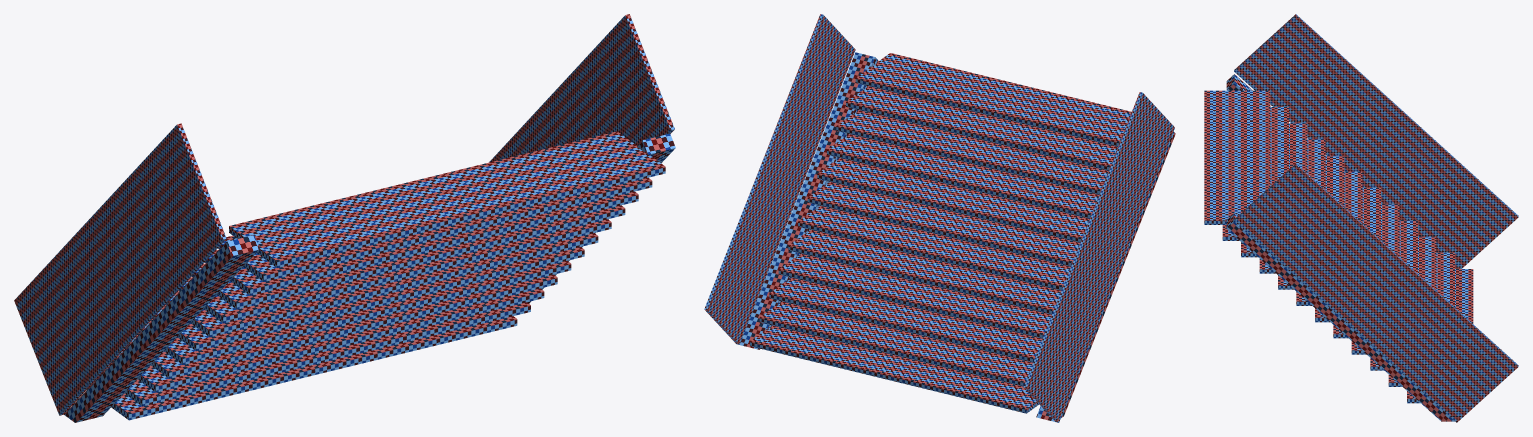
Rendered from Half_stairs_rail_01.fbx.
3 views of the same model, side by side, from view 1: azimuth 30°, elevation 25°; view 2: azimuth 150°, elevation 25°; view 3: azimuth 270°, elevation 25° (orthographic). The views are drawn at different scales.
Visible parts, largest first — view 1: Half_stairs_rail_01; view 2: Half_stairs_rail_01; view 3: Half_stairs_rail_01.
Part boxes in pixels (left/top/right/bottom): Half_stairs_rail_01: left=14, top=14, right=675, bottom=422; Half_stairs_rail_01: left=704, top=14, right=1175, bottom=422; Half_stairs_rail_01: left=1204, top=14, right=1518, bottom=422.
Size of the model in its own units: 408 by 325 by 359.
Materials: 1 (1 with a texture image).
